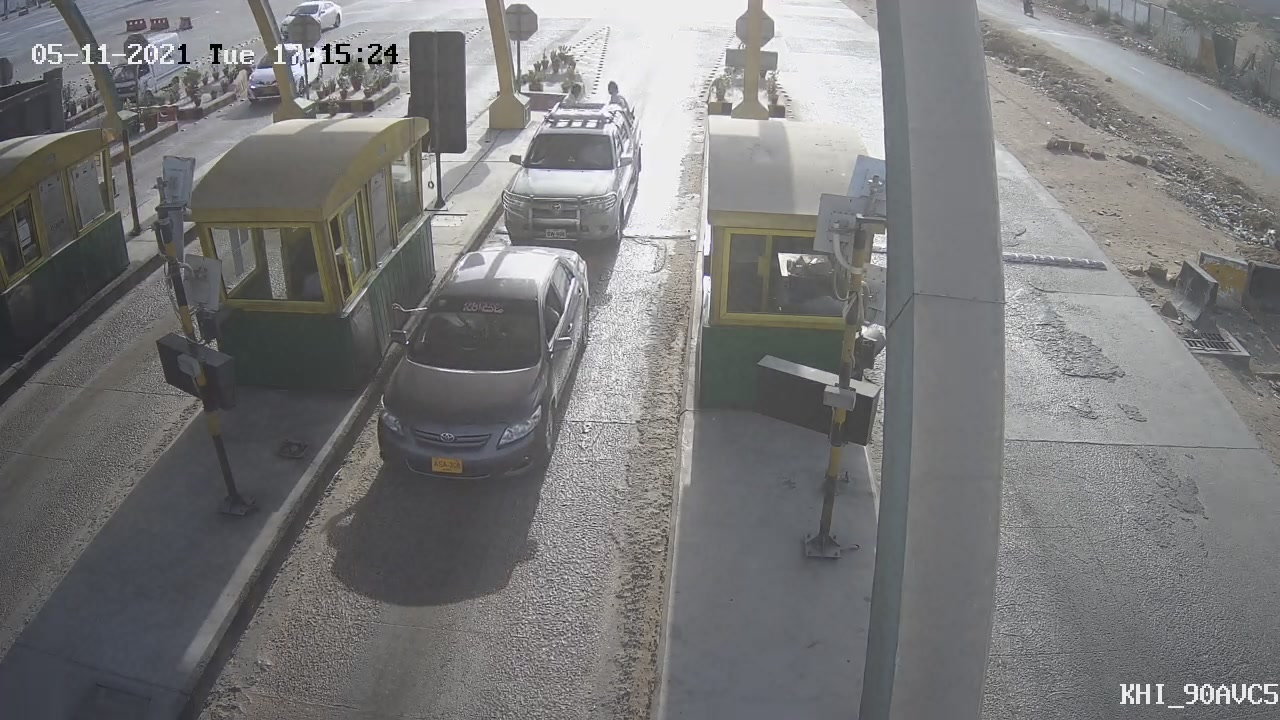F1: (351, 227, 616, 503), (483, 81, 663, 265)
